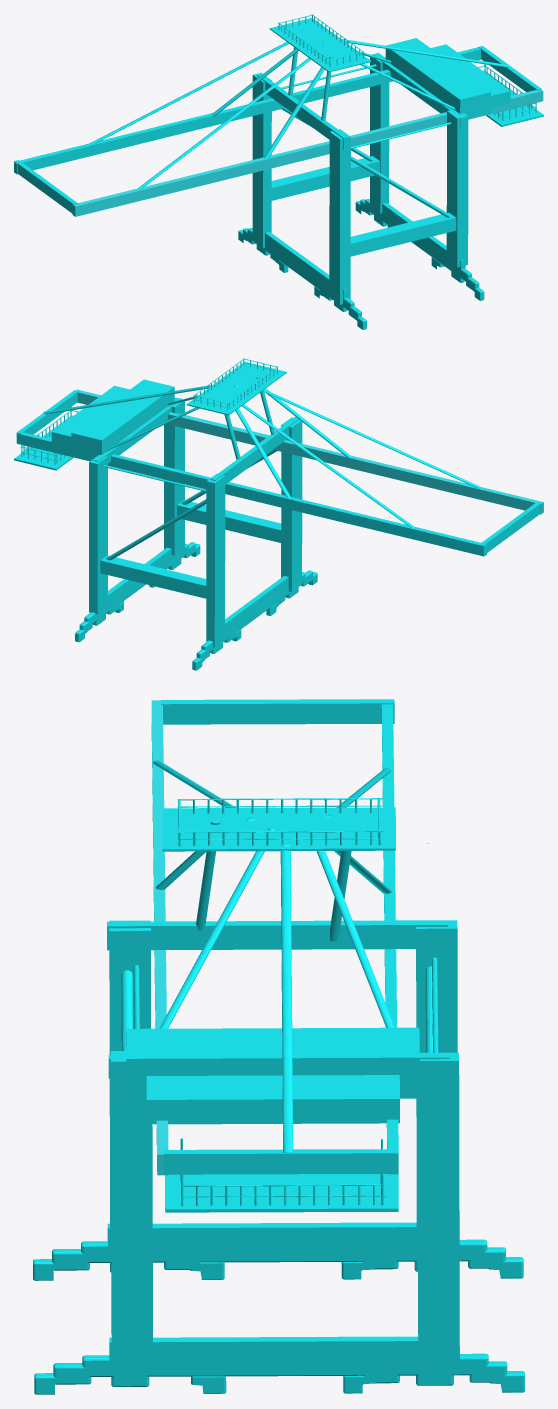
File: anqiao.glb
3 views of the same model, one above another, from view 1: azimuth 30°, elevation 25°; view 2: azimuth 150°, elevation 25°; view 3: azimuth 270°, elevation 25° (orthographic). The views are drawn at different scales.
Parts seen in each view (by area): view 1: 圆柱.001; view 2: 圆柱.001; view 3: 圆柱.001.
Part boxes in pixels (<box>): 圆柱.001: <box>14,14,543,329</box>; 圆柱.001: <box>14,358,543,670</box>; 圆柱.001: <box>33,699,524,1394</box>.
Size of the model in its own units: 47.95 by 23.54 by 21.78.
